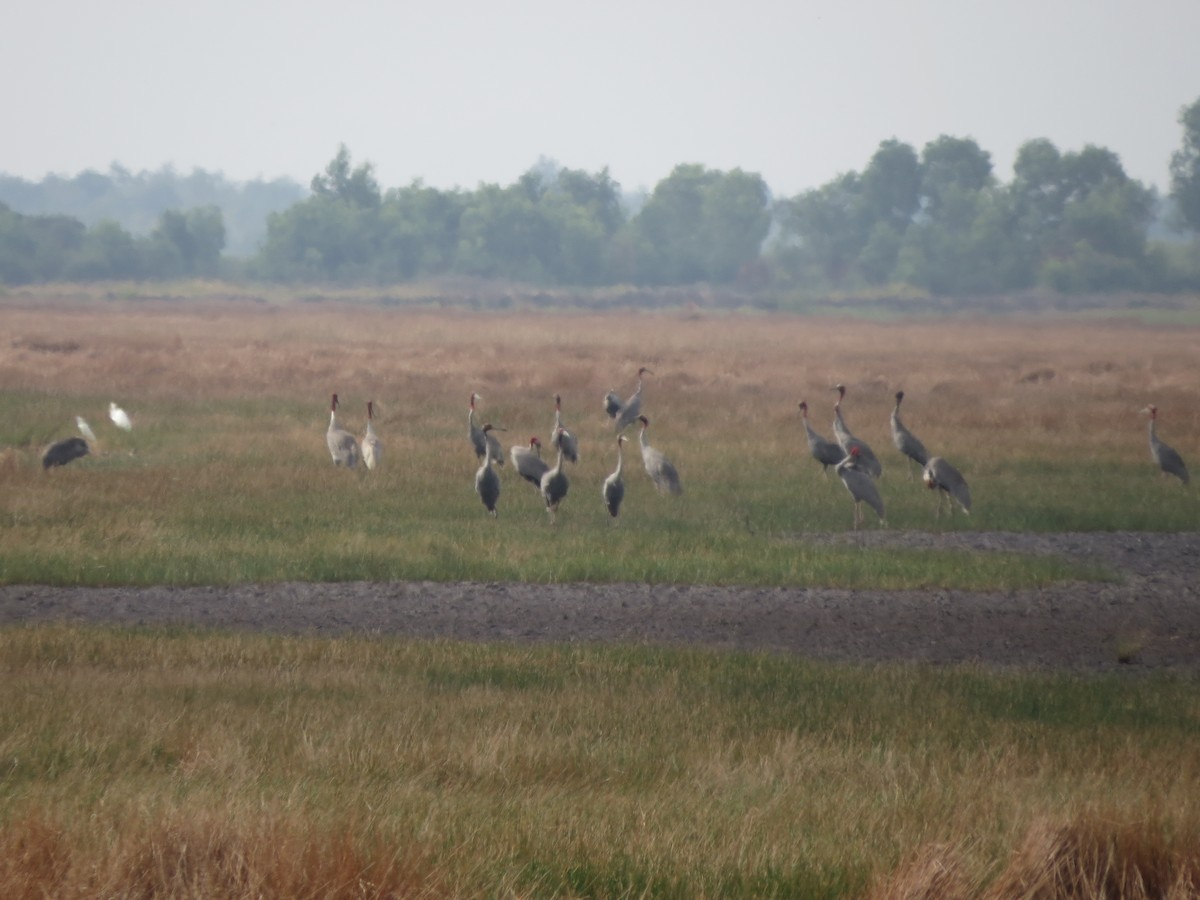crane: (920, 453, 976, 519), (836, 447, 886, 519), (471, 421, 508, 511), (318, 390, 358, 471), (795, 398, 838, 472), (637, 415, 678, 492), (889, 388, 932, 460), (828, 383, 872, 451), (612, 365, 657, 429), (360, 401, 380, 475)
